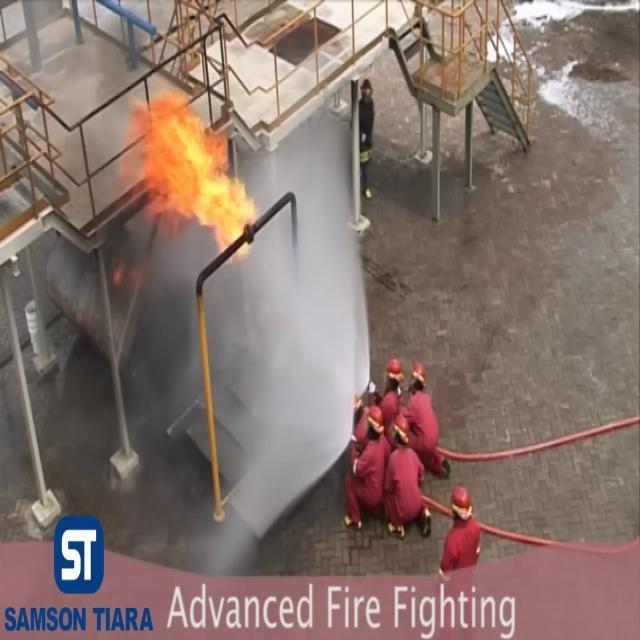Fire: (124, 92, 253, 246)
